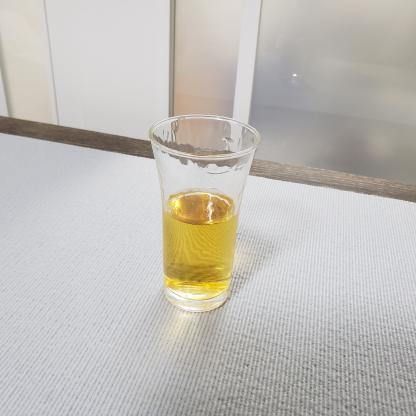glass: (144, 108, 268, 318)
